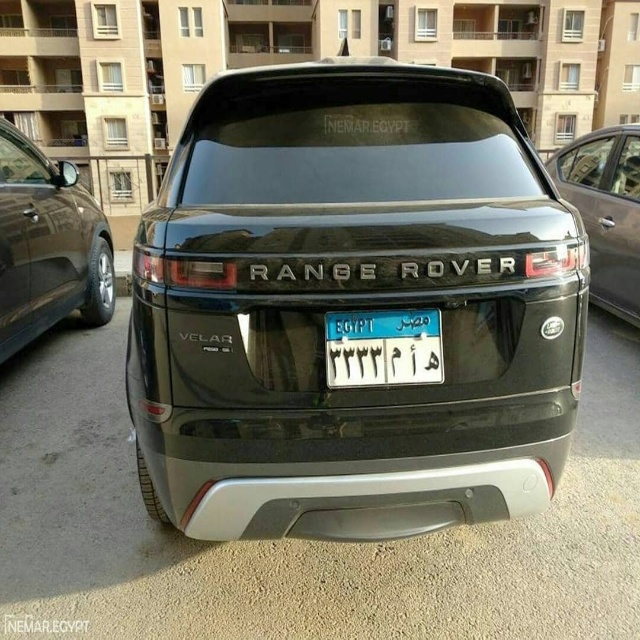License Plate: (321, 303, 447, 392)
